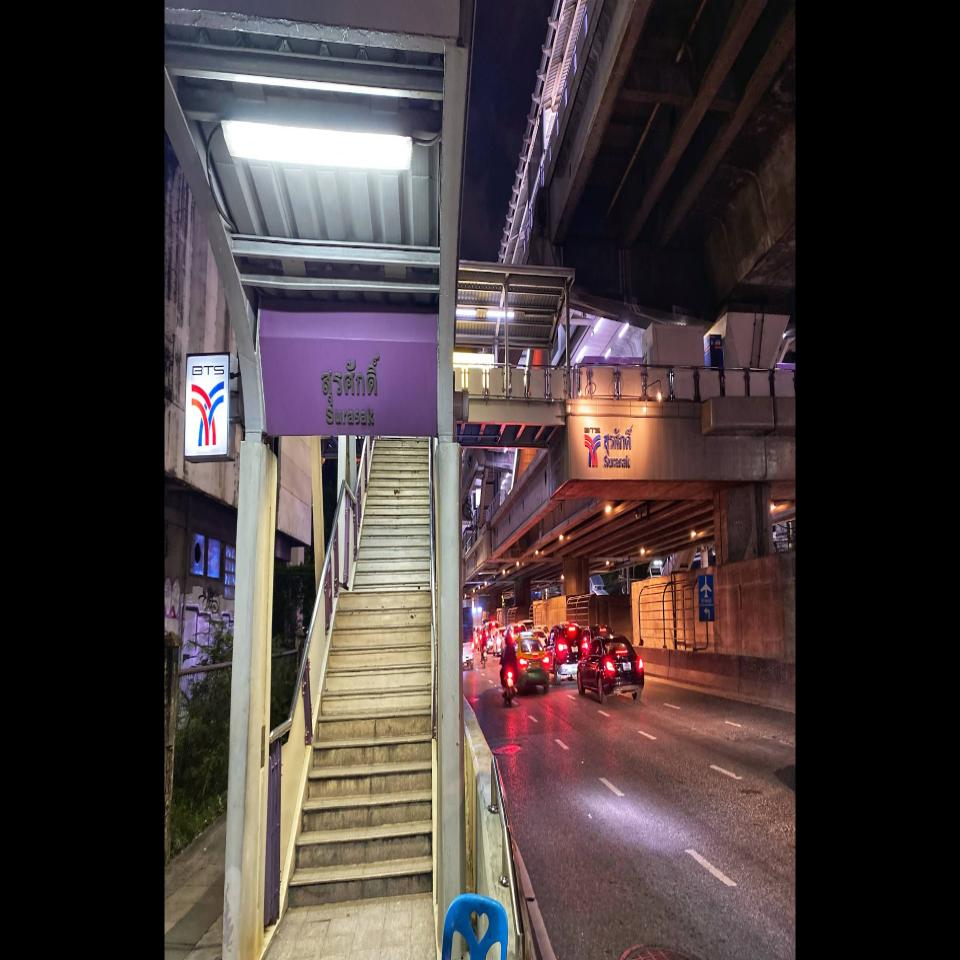signage: (184, 339, 438, 460), (259, 339, 438, 436), (584, 424, 634, 468), (604, 424, 634, 469)
